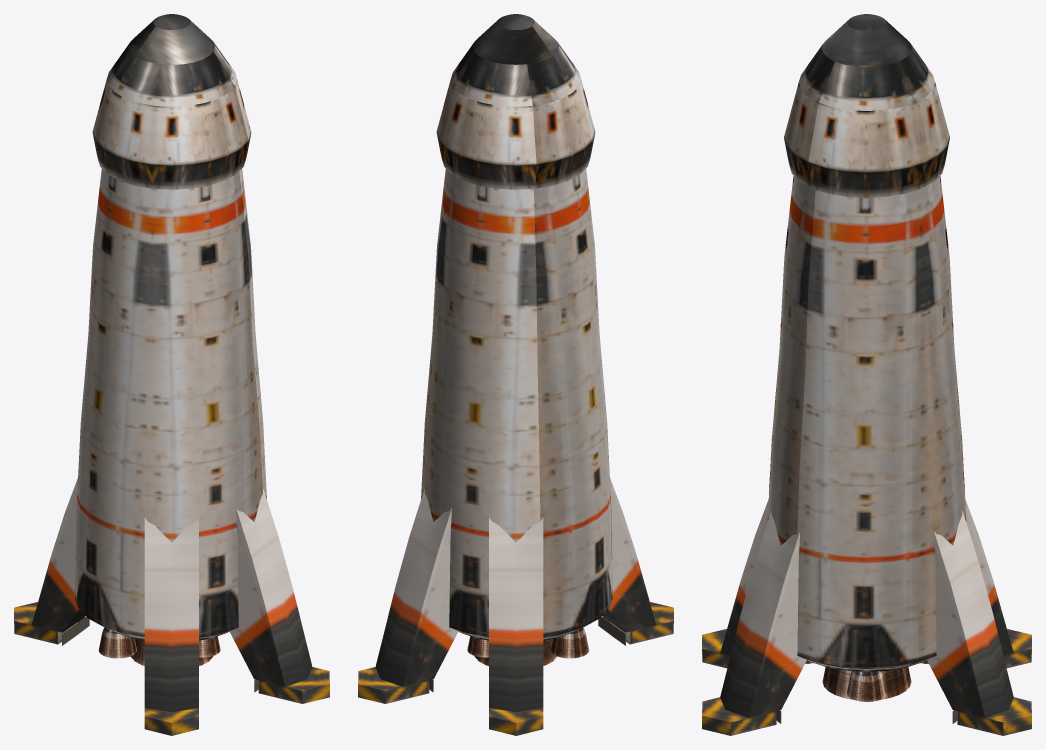
Rendered from space_rocket.dae.
3 views of the same model, side by side, from view 1: azimuth 30°, elevation 25°; view 2: azimuth 150°, elevation 25°; view 3: azimuth 270°, elevation 25° (orthographic). The views are drawn at different scales.
Parts seen in each view (by area): view 1: space_rocket; view 2: space_rocket; view 3: space_rocket.
Boxes of the visible parts, box(x1,y1,x2,y2) form: space_rocket: box(14, 14, 329, 735); space_rocket: box(358, 14, 673, 735); space_rocket: box(702, 14, 1031, 735).
Size of the model in its own units: 14.27 by 21.04 by 47.08.
